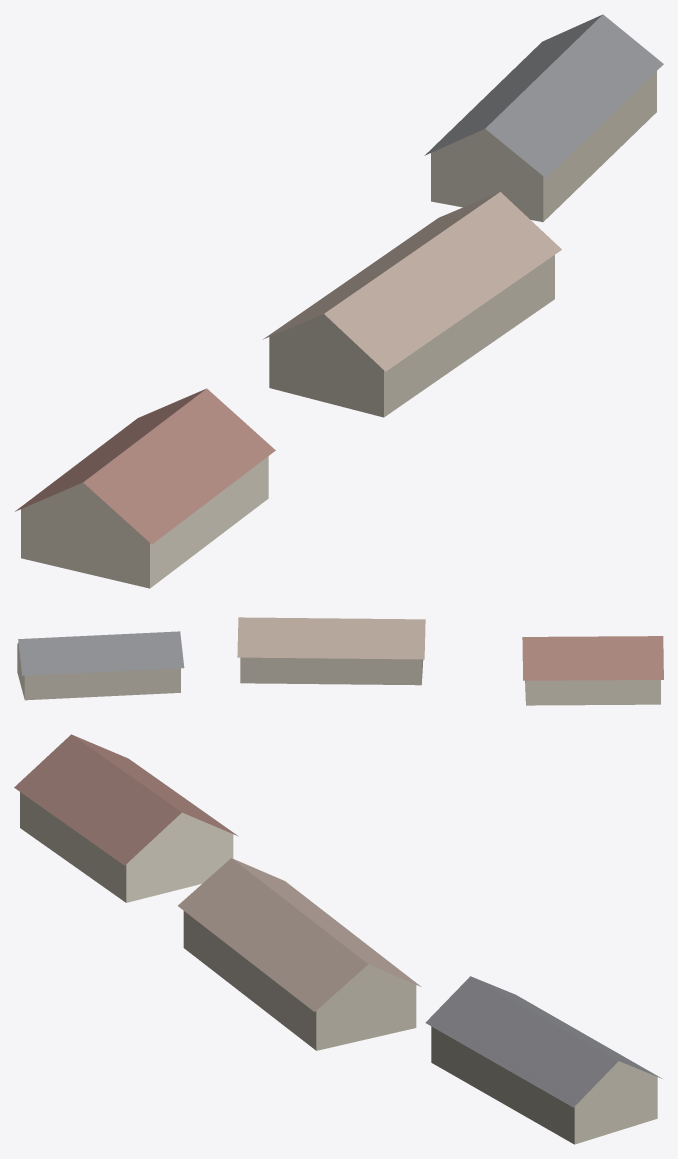
3 renders of one model, top to bottom at view 1: azimuth 30°, elevation 25°; view 2: azimuth 150°, elevation 25°; view 3: azimuth 270°, elevation 25°, orthographic. The views are drawn at different scales.
Visible parts, largest first — view 1: tuile; view 2: tuile; view 3: tuile.
Part boxes in pixels (<box>): tuile: <box>15,14,663,588</box>; tuile: <box>17,617,663,705</box>; tuile: <box>14,734,662,1144</box>.
Size of the model in its own units: 70.14 by 8.69 by 51.12.
